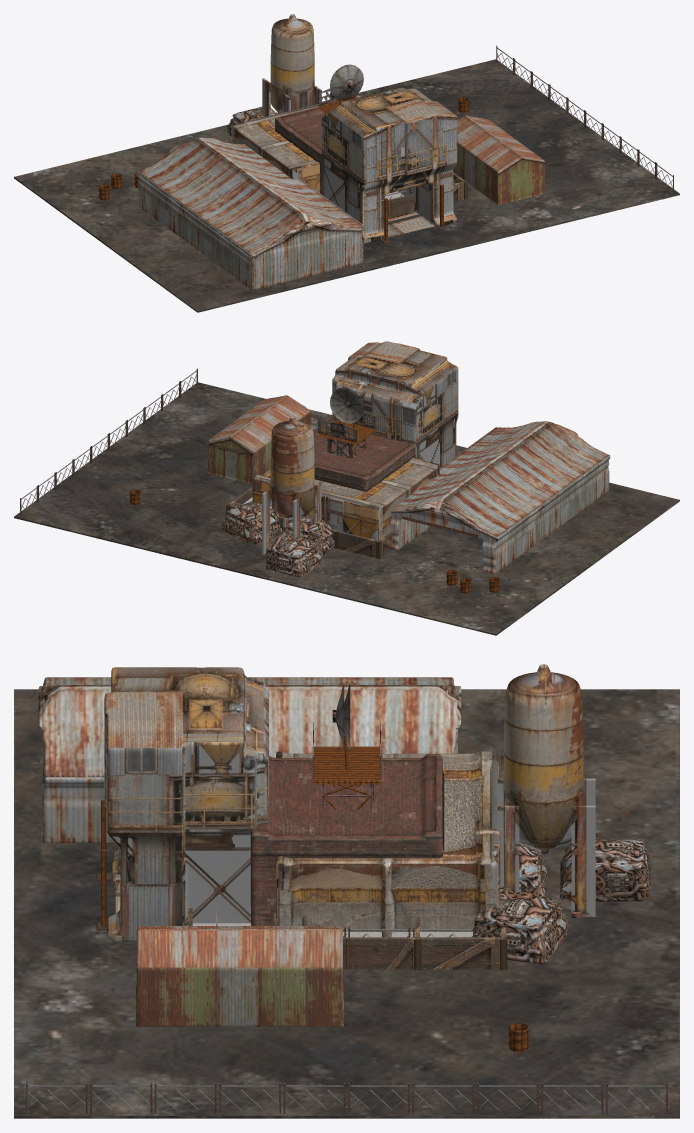
Rendered from plants.glb.
3 renders of one model, top to bottom at view 1: azimuth 30°, elevation 25°; view 2: azimuth 150°, elevation 25°; view 3: azimuth 270°, elevation 25°, orthographic. The views are drawn at different scales.
Parts seen in each view (by area): view 1: machine-yard:dirt-yard, machine-yard:open-shed:body, batch-plant:mixing-tower-shell, machine-yard:store-shed:body, batch-plant:silo-shell, batch-plant:aggregate-bin-shells, pump-station:body, radar:dish-rear-surface, formwork-4:end-wall-1, batch-plant:silo:traced-legs-road, machine-yard:parts-pile-2; view 2: machine-yard:dirt-yard, machine-yard:open-shed:body, batch-plant:mixing-tower-shell, batch-plant:aggregate-bin-shells, machine-yard:store-shed:body, pump-station:body, batch-plant:silo-shell, machine-yard:parts-pile-2, machine-yard:parts-pile-3, machine-yard:parts-pile-1, radar:dish-surface, formwork-4:end-wall--1 (+4 smaller); view 3: machine-yard:dirt-yard, batch-plant:mixing-tower-shell, machine-yard:open-shed:body, batch-plant:aggregate-bin-shells, machine-yard:store-shed:body, pump-station:body, batch-plant:silo-shell, machine-yard:parts-pile-3, batch-plant:silo:traced-legs-far, machine-yard:parts-pile-2, formwork-4:timber-wall-1, radar:platform-deck (+2 smaller).
Part boxes in pixels (x1=…): machine-yard:dirt-yard: x1=14, y1=59, x2=679, y2=312; machine-yard:open-shed:body: x1=137, y1=137, x2=364, y2=289; batch-plant:mixing-tower-shell: x1=321, y1=87, x2=457, y2=243; machine-yard:store-shed:body: x1=453, y1=115, x2=544, y2=204; batch-plant:silo-shell: x1=270, y1=14, x2=314, y2=113; batch-plant:aggregate-bin-shells: x1=231, y1=94, x2=360, y2=192; pump-station:body: x1=275, y1=96, x2=366, y2=194; radar:dish-rear-surface: x1=331, y1=65, x2=363, y2=100; formwork-4:end-wall-1: x1=388, y1=182, x2=463, y2=216; batch-plant:silo:traced-legs-road: x1=262, y1=78, x2=290, y2=116; machine-yard:parts-pile-2: x1=227, y1=107, x2=277, y2=136; machine-yard:dirt-yard: x1=14, y1=382, x2=679, y2=635; machine-yard:open-shed:body: x1=390, y1=421, x2=610, y2=573; batch-plant:mixing-tower-shell: x1=332, y1=341, x2=458, y2=467; batch-plant:aggregate-bin-shells: x1=252, y1=458, x2=439, y2=540; machine-yard:store-shed:body: x1=208, y1=395, x2=311, y2=484; pump-station:body: x1=313, y1=418, x2=415, y2=491; batch-plant:silo-shell: x1=270, y1=416, x2=314, y2=521; machine-yard:parts-pile-2: x1=266, y1=532, x2=323, y2=577; machine-yard:parts-pile-3: x1=221, y1=501, x2=281, y2=544; machine-yard:parts-pile-1: x1=284, y1=516, x2=334, y2=554; radar:dish-surface: x1=330, y1=389, x2=362, y2=423; formwork-4:end-wall--1: x1=230, y1=504, x2=377, y2=557; machine-yard:dirt-yard: x1=14, y1=689, x2=679, y2=1118; batch-plant:mixing-tower-shell: x1=104, y1=667, x2=268, y2=941; machine-yard:open-shed:body: x1=38, y1=677, x2=461, y2=842; batch-plant:aggregate-bin-shells: x1=276, y1=751, x2=500, y2=932; machine-yard:store-shed:body: x1=136, y1=926, x2=343, y2=1026; pump-station:body: x1=250, y1=754, x2=444, y2=925; batch-plant:silo-shell: x1=504, y1=664, x2=583, y2=855; machine-yard:parts-pile-3: x1=474, y1=887, x2=568, y2=964; batch-plant:silo:traced-legs-far: x1=497, y1=805, x2=595, y2=916; machine-yard:parts-pile-2: x1=560, y1=839, x2=650, y2=901; formwork-4:timber-wall-1: x1=343, y1=937, x2=504, y2=969; radar:platform-deck: x1=312, y1=746, x2=381, y2=784.
Bounding box in the file's own units: 47 × 12.33 × 31.
64 materials, 57 textured.
